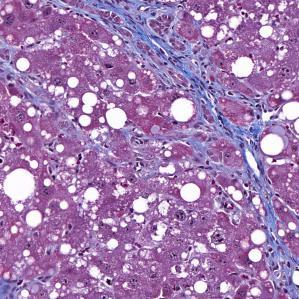fibrosis: (109, 0, 194, 75), (261, 198, 299, 299), (194, 121, 261, 176)
